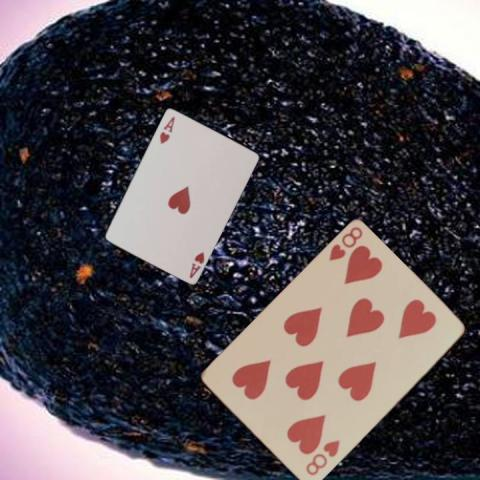8h: (325, 224, 365, 263), (303, 438, 341, 478)
Ah: (157, 114, 176, 146), (186, 249, 206, 279)
